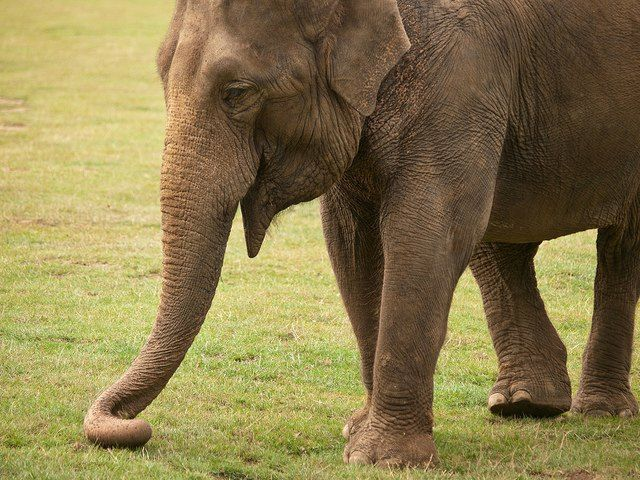elephant: (46, 1, 638, 479)
